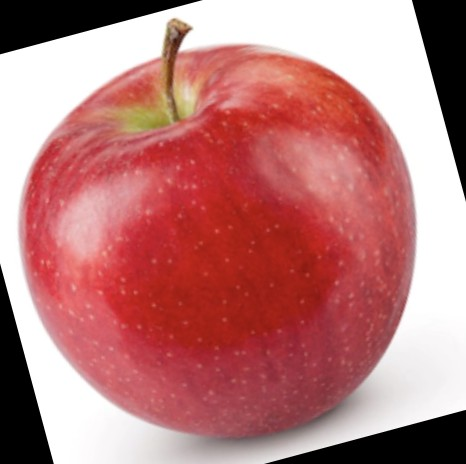fresh_apple: (20, 43, 417, 433)
